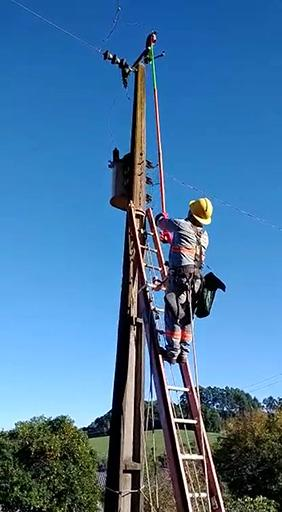Vara_Manobra: (149, 47, 170, 244)
